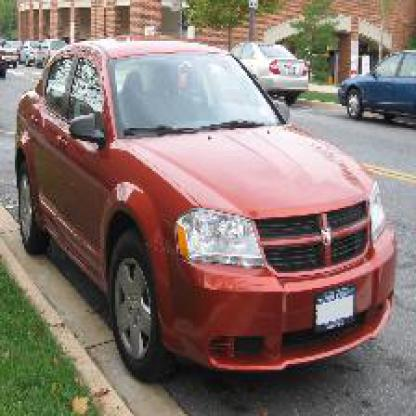not_emergency: (13, 30, 412, 375)
